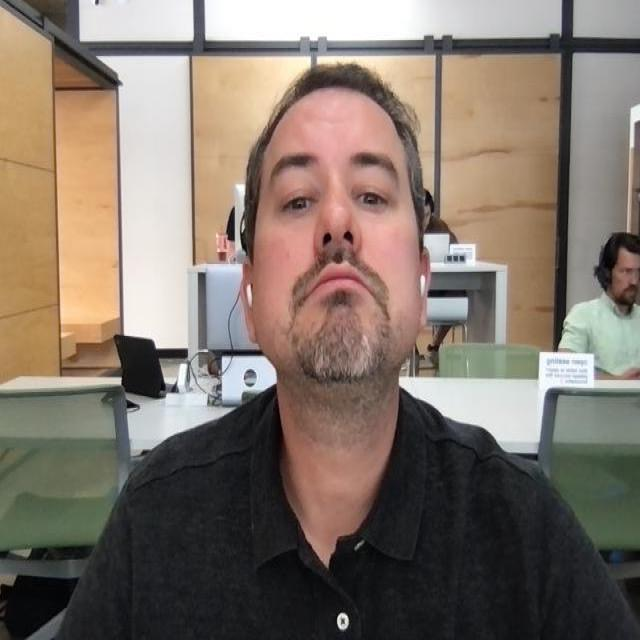face: (241, 69, 428, 395), (596, 228, 640, 307)
